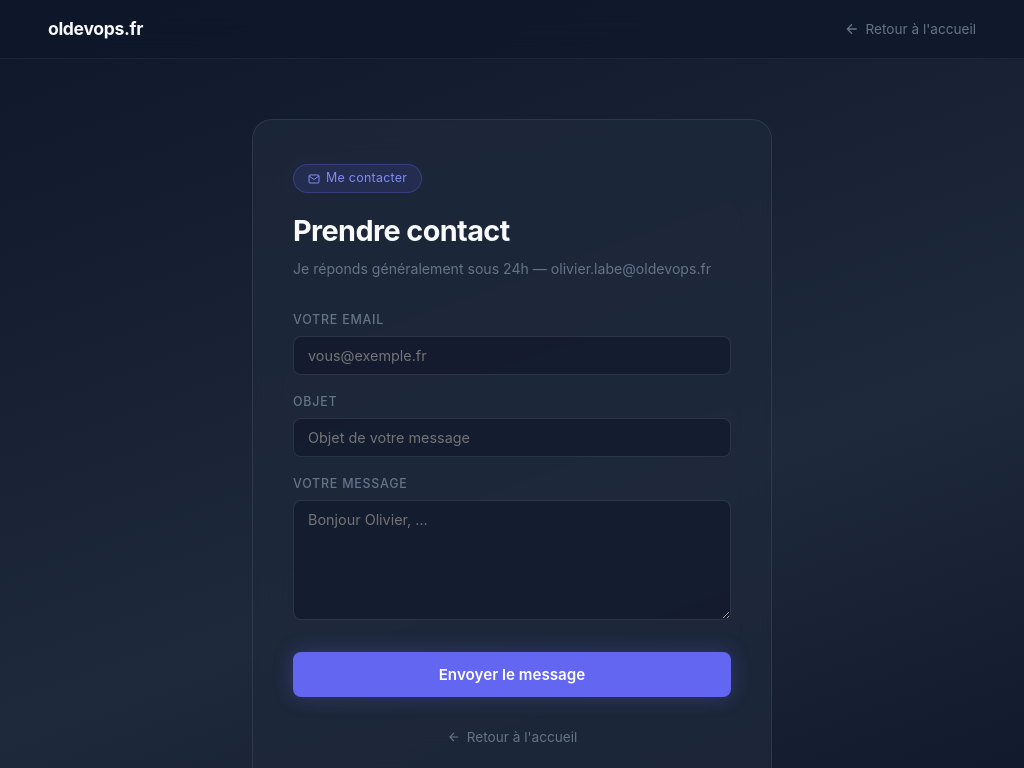
Test: ContactPage › affiche le message de confirmation après envoi
The width and height of the screenshot is (1024, 768).
Type "a@b.fr" into the field labelled "Votre email" at [512, 356], box [293,336,731,375]
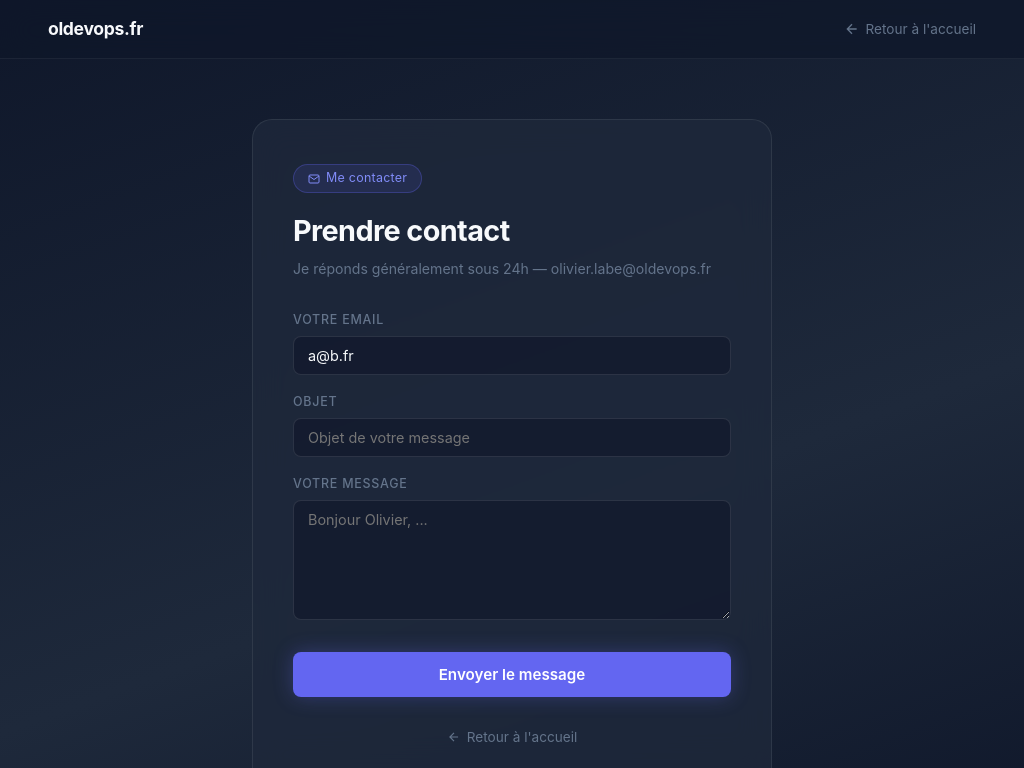
Type "Sujet" into the field labelled "Objet" at [512, 437], box [293,418,731,457]
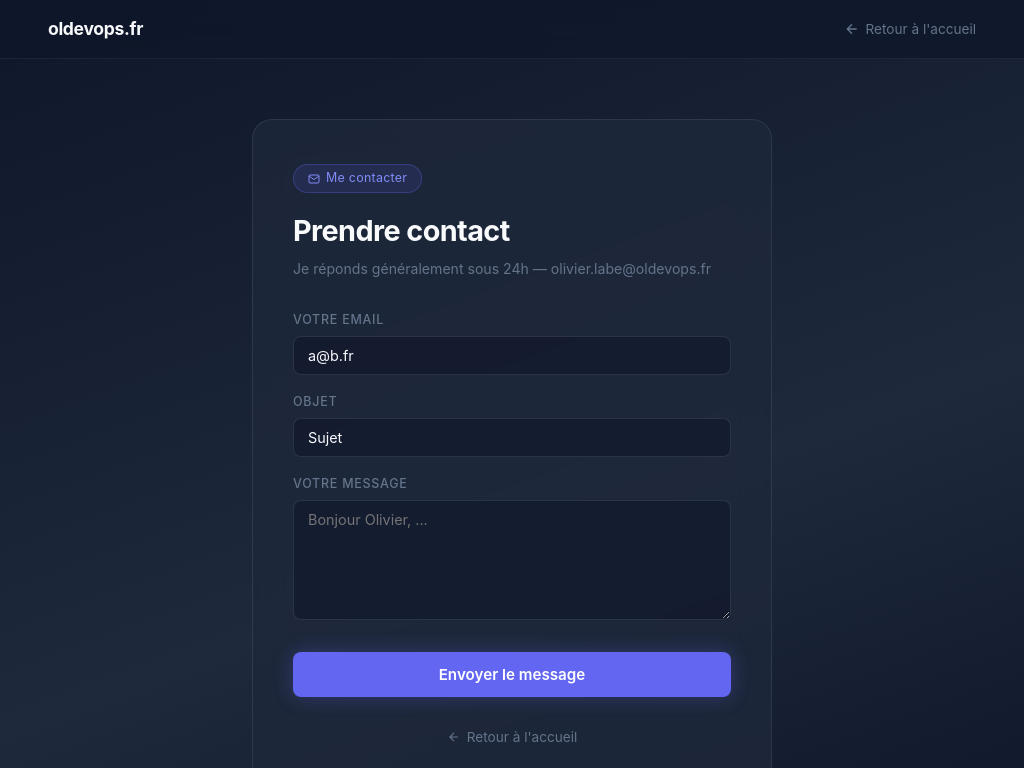
Type "Message" into the text box labelled "Votre message" at [512, 560], box [293,500,731,620]
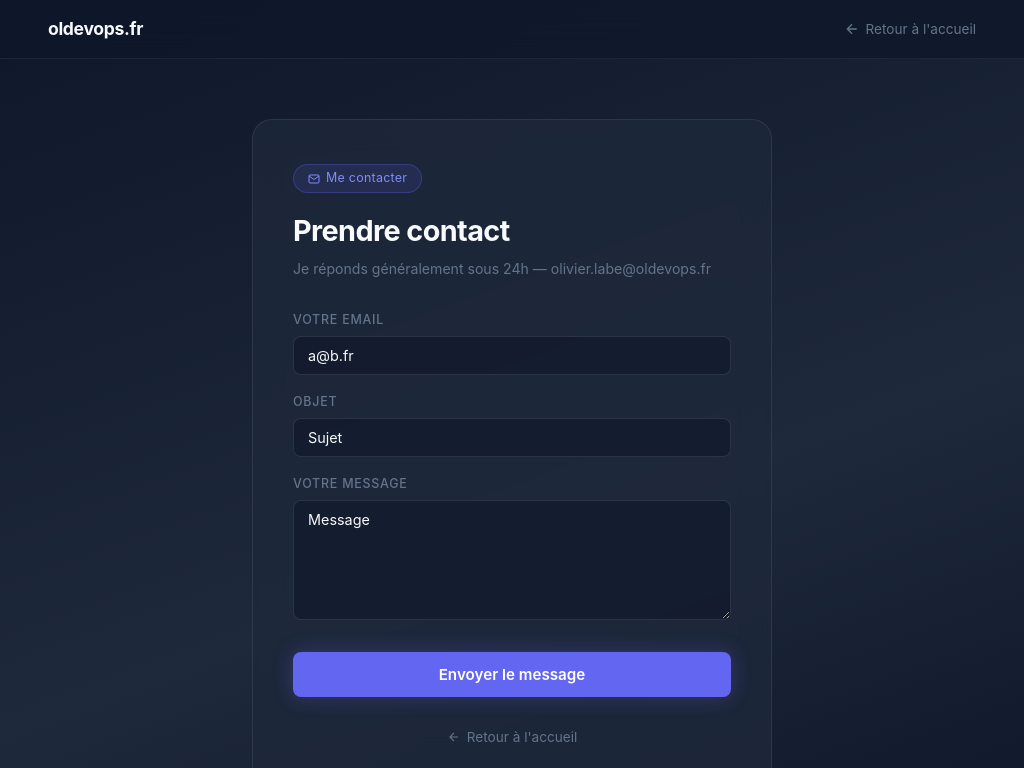
Click the button "Envoyer le message" at [512, 674], box [293,652,731,697]
(page scrolled)
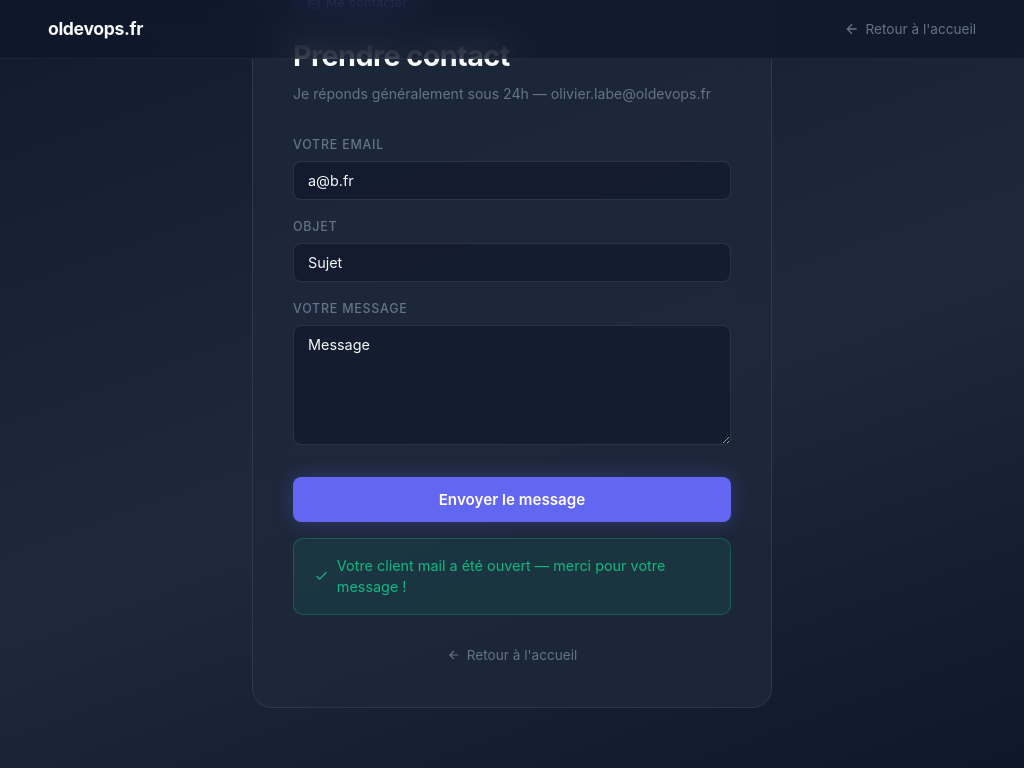
Now the text "Votre client mail a été ouvert — merci pour votre message !" is shown, box [293,538,731,615]
